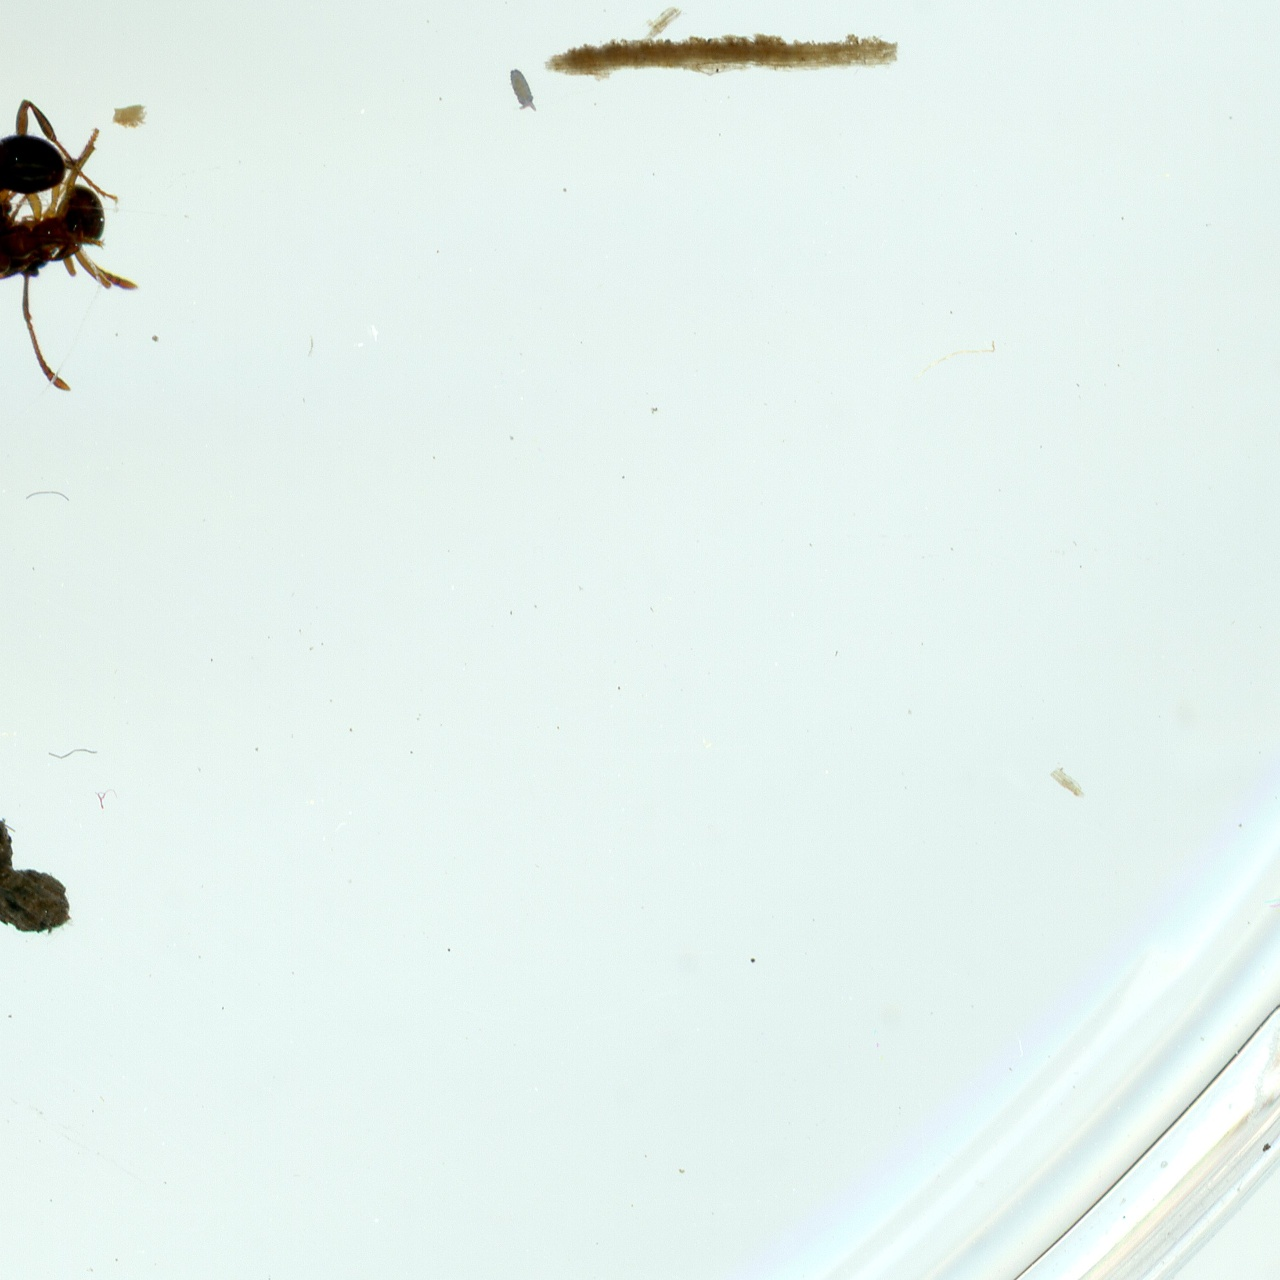arthropod: (0, 95, 144, 396), (505, 60, 543, 117)
